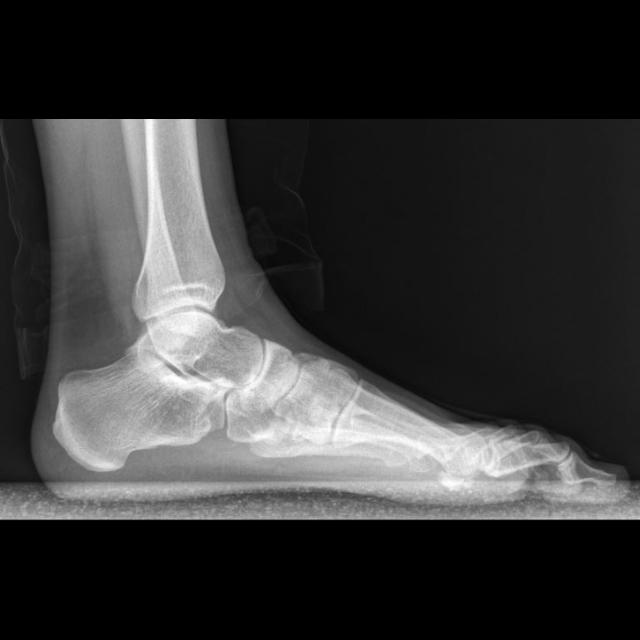a: (54, 334, 226, 471)
b: (236, 338, 297, 413)
c: (334, 382, 482, 491)
